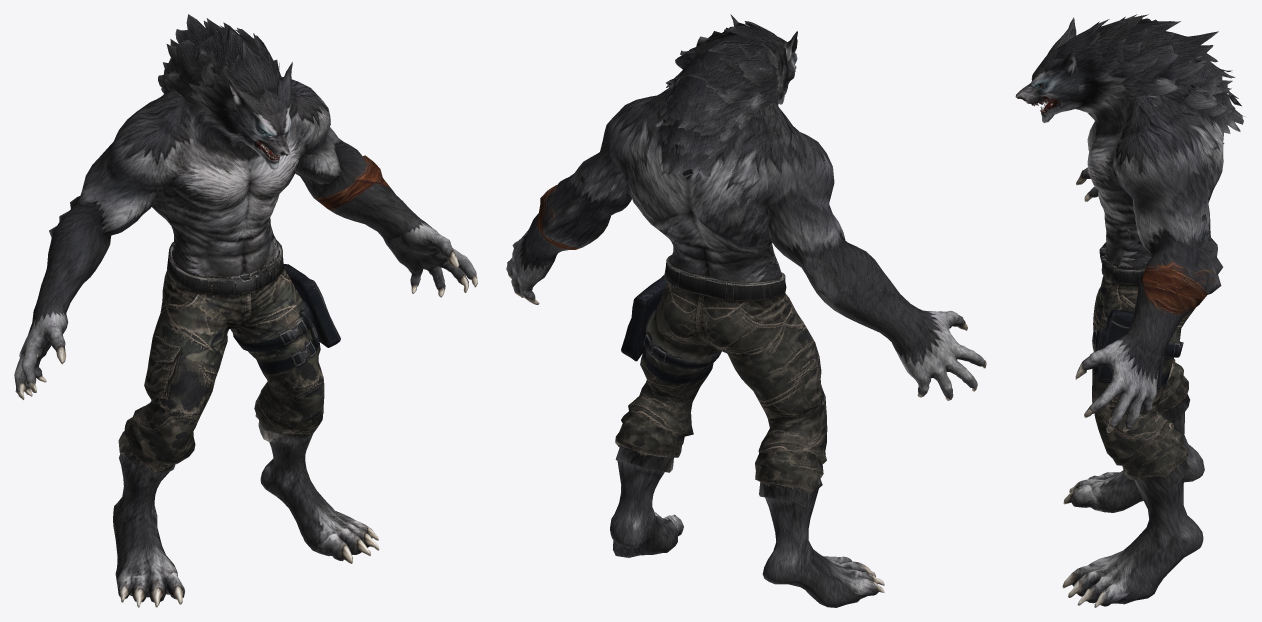
File: grey-wolf-source.glb
3 views of the same model, side by side, from view 1: azimuth 30°, elevation 25°; view 2: azimuth 150°, elevation 25°; view 3: azimuth 270°, elevation 25° (orthographic). The views are drawn at different scales.
Bounding box in the file's own units: 0.8852 × 1 × 0.3934.
1 material, 1 textured.
